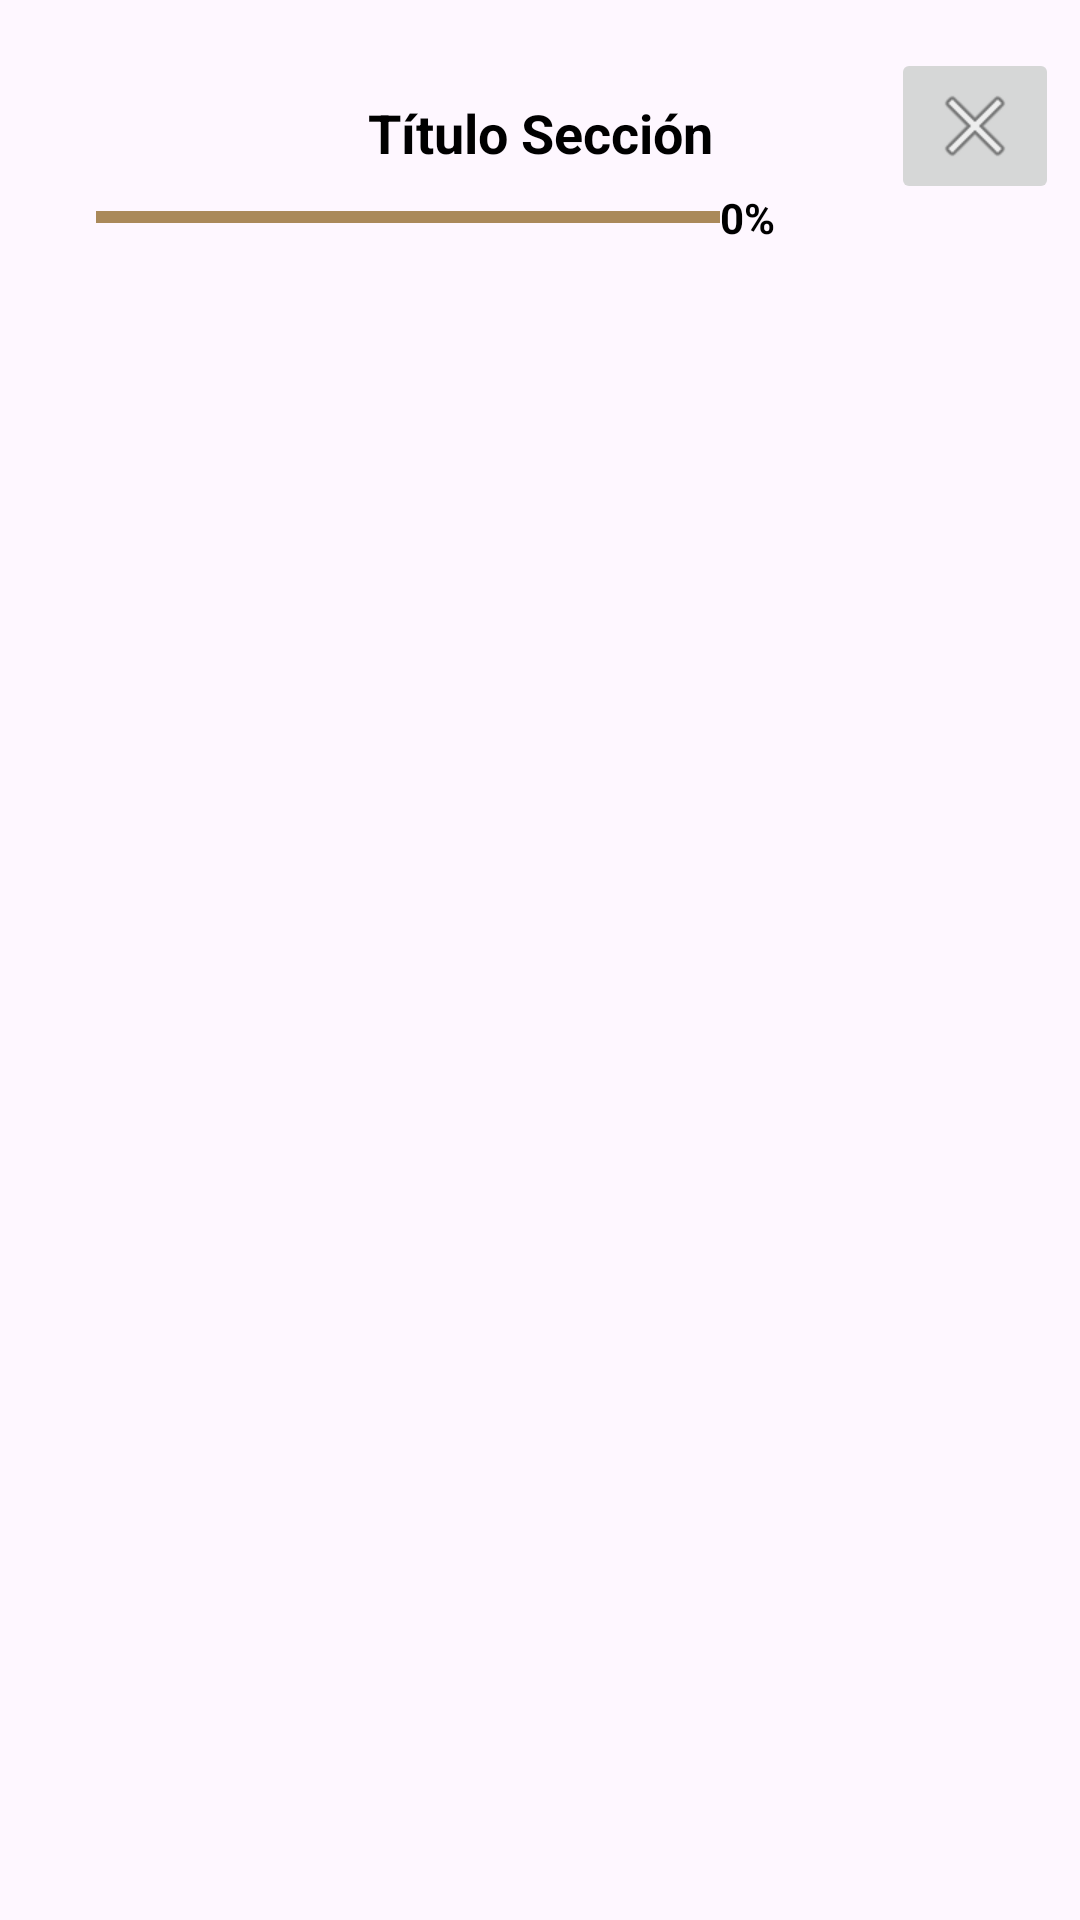

Icons on this 1080 x 1920 Android screen, each with the point to tap as (x=x, y=y):
close clear cancel: (x=975, y=126)
